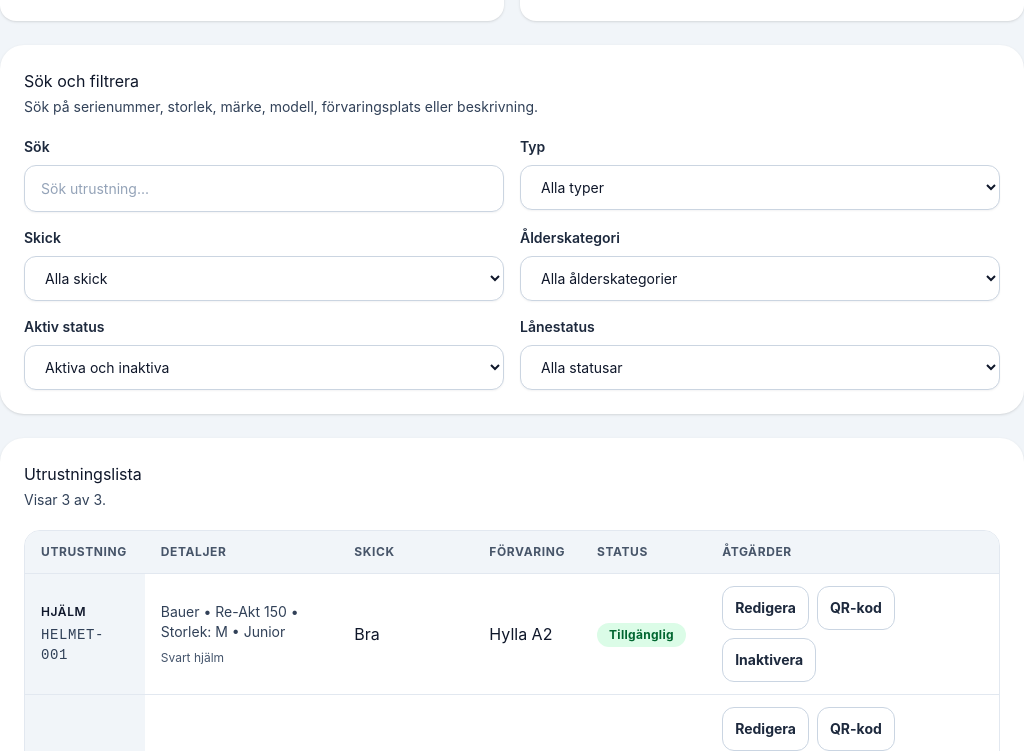
Test case: AdminPage › filters equipment and clears all filters
The image size is (1024, 751).
(page scrolled)
Select "Utlånade" in the dropdown labelled "Lånestatus" at (760, 368), box [520, 345, 1000, 390]
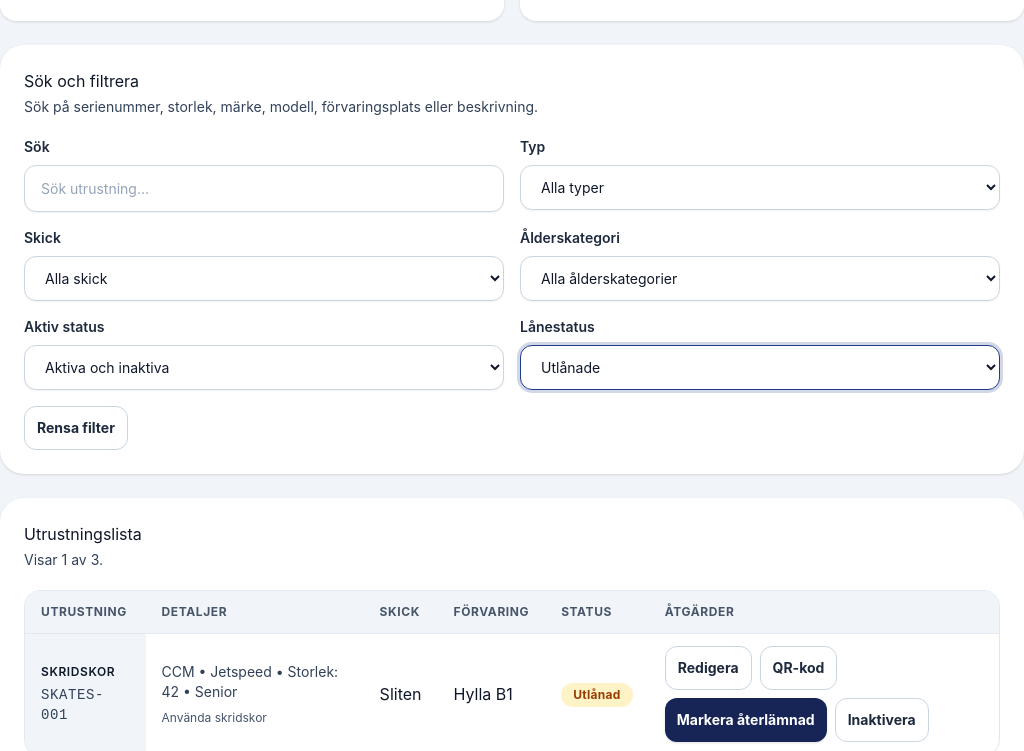
Expected: the text "SKATES-001" is shown, [41, 687, 104, 723]
Expected: the text "HELMET-001" is gone
Select "Endast aktiva" in the dropdown labelled "Aktiv status" at (264, 368), box [24, 345, 504, 390]
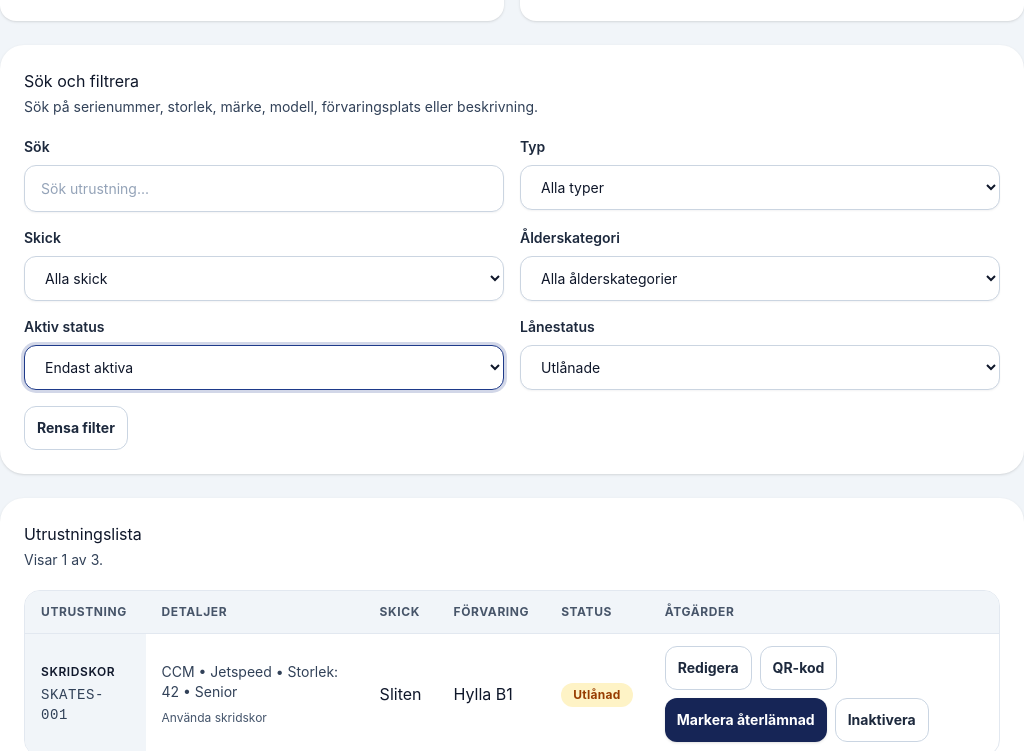
Click the button "Rensa filter" at (76, 428), box [24, 406, 128, 450]
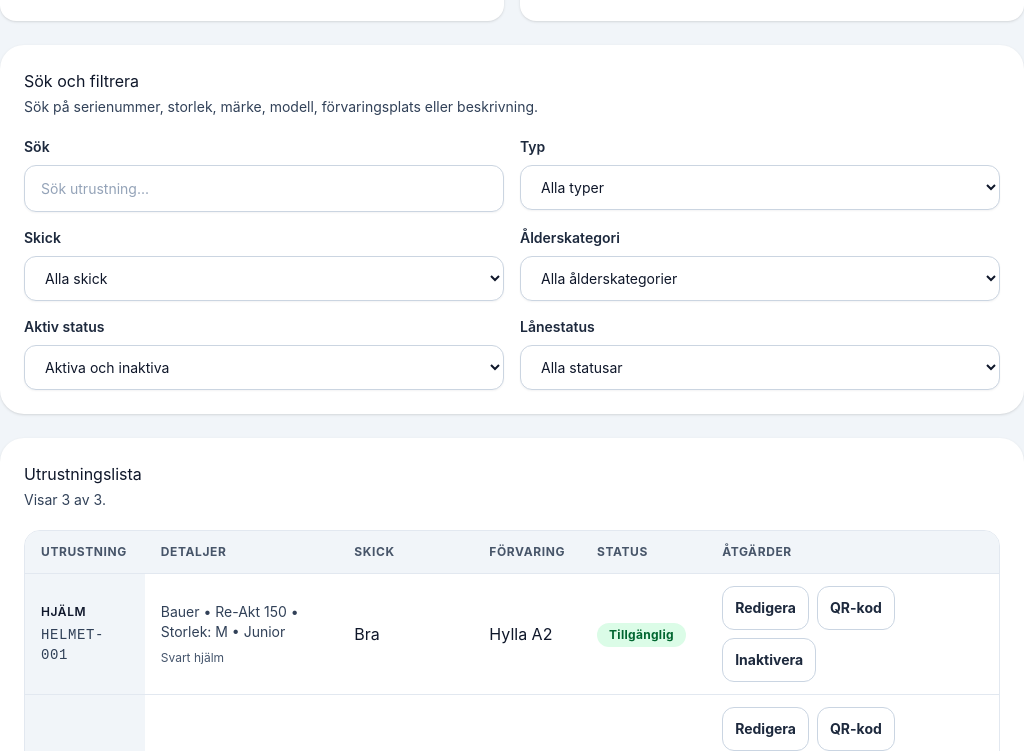
Expected: the text "HELMET-001" is shown, [41, 627, 104, 663]
